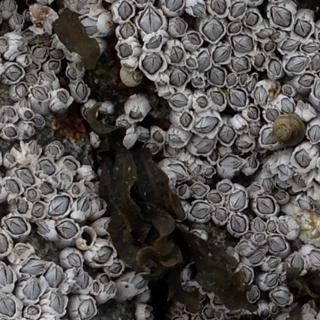Barnacle: (139, 7, 163, 35), (191, 183, 222, 204), (204, 17, 224, 44), (143, 53, 164, 76), (271, 7, 293, 28), (232, 34, 254, 55), (50, 197, 72, 218), (79, 18, 101, 38), (56, 219, 77, 239), (20, 280, 40, 301), (45, 265, 64, 287), (7, 218, 30, 236), (194, 119, 219, 135), (0, 293, 16, 318), (93, 246, 114, 265), (165, 164, 187, 182), (293, 20, 313, 39), (50, 289, 65, 314), (190, 202, 212, 219), (287, 56, 310, 72), (294, 149, 312, 169), (79, 299, 97, 319), (22, 259, 45, 274), (169, 68, 187, 87), (257, 197, 276, 215), (0, 263, 14, 287), (232, 213, 247, 235), (229, 89, 247, 107), (260, 127, 278, 145), (229, 194, 247, 212), (269, 235, 287, 253), (247, 250, 267, 266), (214, 46, 231, 64), (39, 159, 57, 176), (17, 168, 35, 185), (210, 0, 229, 16), (169, 94, 189, 109), (232, 56, 249, 73), (219, 126, 235, 144), (209, 68, 224, 87), (197, 53, 211, 73), (30, 88, 50, 102), (195, 139, 215, 153), (77, 269, 90, 290), (5, 65, 22, 81), (272, 291, 291, 305), (119, 2, 132, 22), (75, 82, 89, 100), (254, 86, 268, 104), (291, 255, 305, 273), (280, 98, 295, 114), (38, 182, 54, 197), (262, 273, 278, 288), (121, 23, 135, 40), (170, 46, 184, 63), (222, 157, 240, 170), (232, 2, 246, 18), (77, 197, 91, 213), (213, 207, 227, 223), (16, 199, 29, 216), (281, 40, 299, 52), (240, 267, 252, 285), (146, 36, 161, 50), (6, 179, 20, 194), (67, 253, 82, 267), (278, 163, 294, 176), (166, 0, 183, 12), (32, 47, 49, 59), (269, 60, 281, 77), (246, 76, 258, 93), (38, 220, 50, 237), (210, 92, 224, 106), (246, 12, 259, 27), (120, 43, 133, 58), (32, 203, 45, 218), (193, 2, 205, 18), (175, 18, 186, 35), (300, 74, 314, 87), (267, 109, 281, 122), (132, 276, 146, 289), (40, 72, 55, 84), (267, 257, 282, 269), (309, 126, 319, 143), (309, 251, 319, 268), (299, 199, 313, 211), (248, 288, 260, 302), (262, 178, 273, 193), (30, 141, 40, 157), (3, 0, 15, 13), (229, 22, 242, 34), (180, 114, 192, 127), (47, 144, 60, 156), (253, 219, 265, 232), (109, 262, 122, 274), (76, 0, 90, 11), (14, 246, 28, 257), (144, 143, 159, 153), (65, 160, 80, 170), (303, 44, 319, 53), (5, 127, 17, 139), (294, 176, 306, 188), (249, 107, 260, 120), (249, 126, 260, 139), (239, 139, 252, 150), (27, 306, 40, 317), (17, 85, 27, 99), (62, 169, 72, 183), (279, 220, 289, 234), (129, 112, 144, 121), (189, 34, 201, 45), (264, 41, 275, 53), (56, 92, 68, 103), (249, 157, 260, 169), (276, 190, 288, 201), (98, 220, 109, 232), (238, 241, 250, 252), (214, 296, 225, 308), (5, 108, 18, 118), (169, 136, 182, 146), (7, 153, 17, 166), (311, 55, 319, 71), (51, 49, 65, 58), (255, 55, 264, 69), (197, 97, 208, 108), (33, 115, 44, 126), (105, 285, 116, 296), (220, 184, 232, 194), (204, 307, 214, 319), (258, 30, 271, 39), (154, 130, 163, 143), (25, 76, 39, 84), (194, 76, 205, 86), (235, 122, 247, 131), (267, 220, 276, 232), (97, 199, 105, 212), (187, 58, 197, 68), (227, 76, 237, 86), (283, 85, 293, 95), (261, 309, 271, 319), (49, 62, 60, 71), (68, 69, 77, 80), (138, 132, 149, 141), (204, 169, 215, 178), (71, 185, 80, 196), (25, 125, 33, 137), (179, 185, 187, 197), (210, 152, 219, 162), (255, 234, 266, 242), (14, 16, 23, 25), (21, 100, 30, 109), (193, 165, 202, 174), (101, 275, 110, 284), (28, 190, 36, 200), (144, 309, 151, 319), (265, 164, 271, 175), (0, 112, 5, 125), (0, 39, 7, 47)
